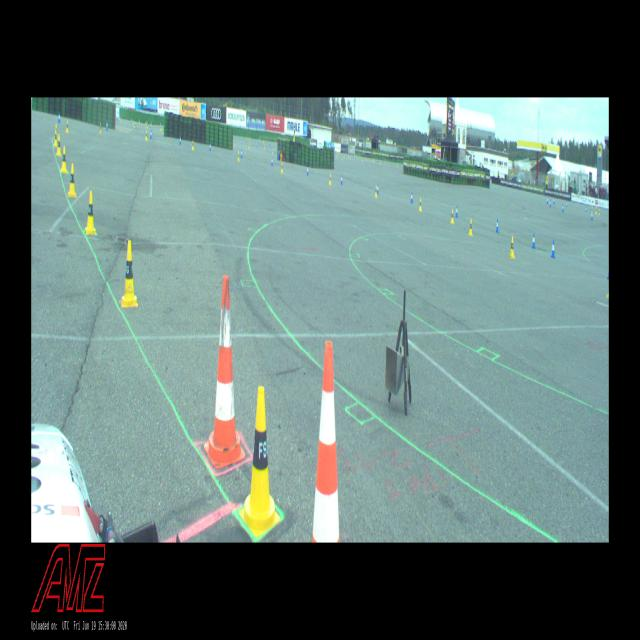blue_cone: (551, 240, 555, 258), (532, 233, 535, 248), (455, 205, 458, 217), (496, 219, 498, 232), (58, 111, 60, 122), (410, 192, 412, 202), (150, 130, 152, 139), (271, 157, 273, 166), (377, 184, 379, 193), (306, 166, 308, 175), (209, 143, 211, 151), (179, 136, 181, 144), (106, 122, 108, 130), (340, 176, 342, 184), (241, 149, 242, 158)
large_orange_cone: (204, 275, 246, 469), (312, 341, 340, 542)
yellow_cone: (239, 387, 280, 538), (121, 240, 138, 306), (85, 190, 96, 234), (68, 163, 76, 197), (61, 146, 67, 173), (509, 237, 515, 258), (56, 135, 62, 156), (468, 219, 472, 235), (54, 130, 57, 146), (55, 124, 58, 139), (419, 198, 422, 211), (451, 210, 454, 222), (99, 122, 102, 134), (66, 120, 68, 132), (375, 186, 377, 197), (329, 174, 331, 185), (192, 140, 194, 150), (238, 152, 240, 161), (146, 131, 148, 140), (281, 163, 283, 172)
